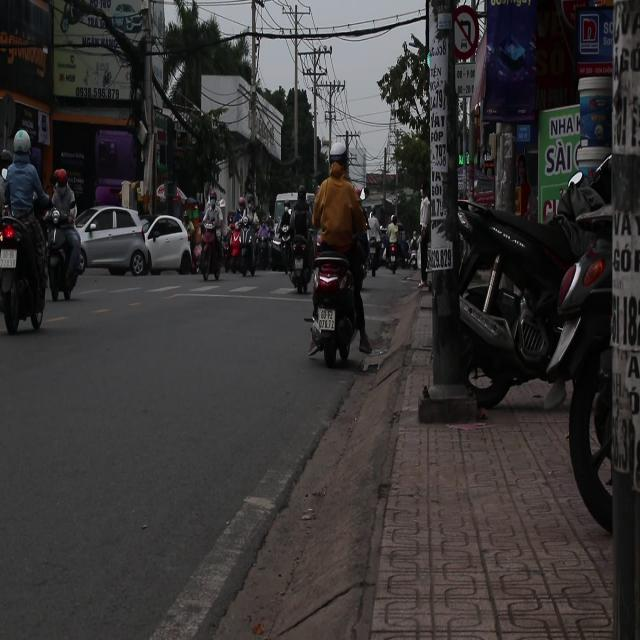car: (77, 206, 153, 276), (143, 216, 192, 276)
motorbike: (447, 190, 609, 418), (309, 240, 361, 365), (0, 206, 48, 336), (39, 206, 87, 299), (286, 230, 312, 294), (198, 216, 220, 281)
